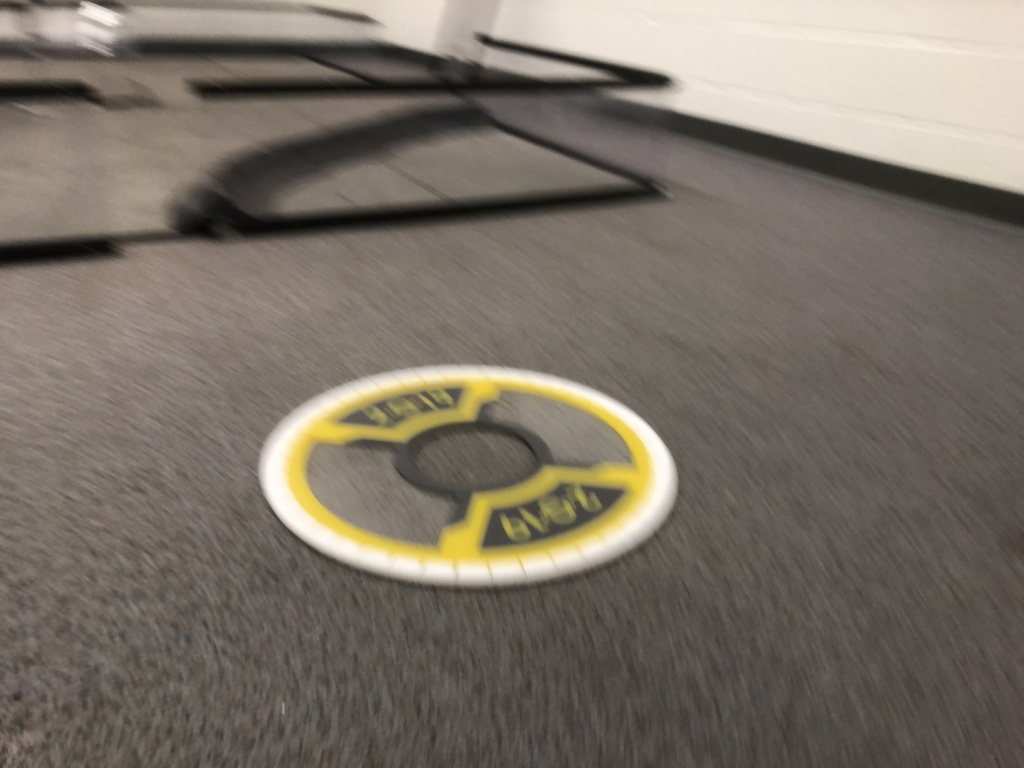hatch_panel: (242, 350, 699, 603)
